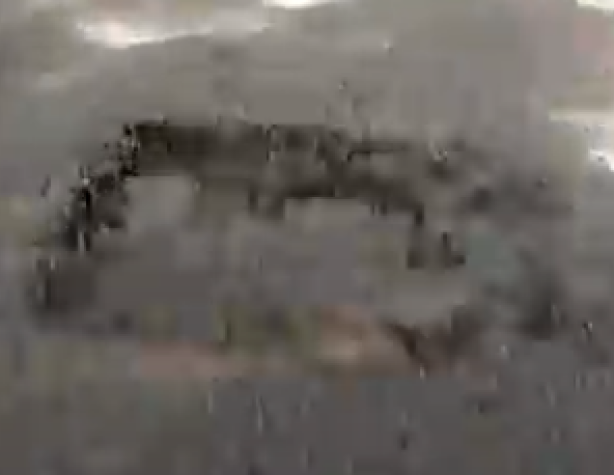Berlubang: (8, 106, 574, 382)
